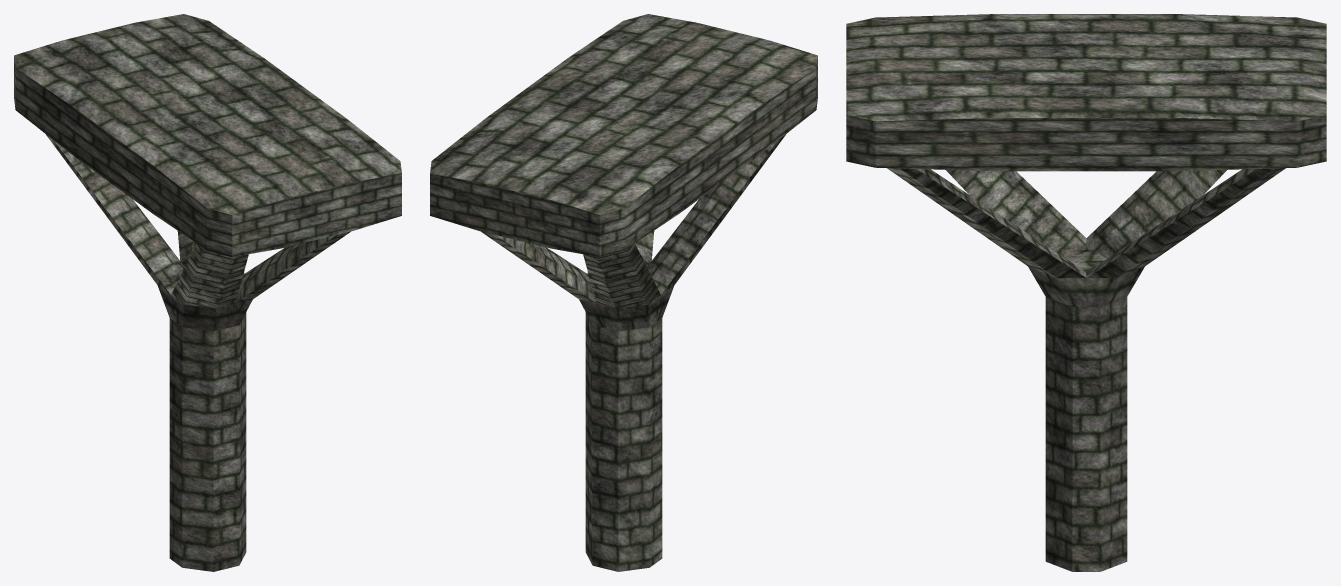
The model's file is Plataforma2.fbx.
The picture shows the model from 3 angles, left to right: view 1: azimuth 30°, elevation 25°; view 2: azimuth 150°, elevation 25°; view 3: azimuth 270°, elevation 25°; orthographic projection. The views are drawn at different scales.
Parts seen in each view (by area): view 1: Cube.062; view 2: Cube.062; view 3: Cube.062.
Boxes of the visible parts, left/top/right/bottom form: Cube.062: left=14, top=14, right=401, bottom=571; Cube.062: left=430, top=14, right=817, bottom=571; Cube.062: left=846, top=14, right=1326, bottom=571.
Bounding box in the file's own units: 296 × 655 × 579.
